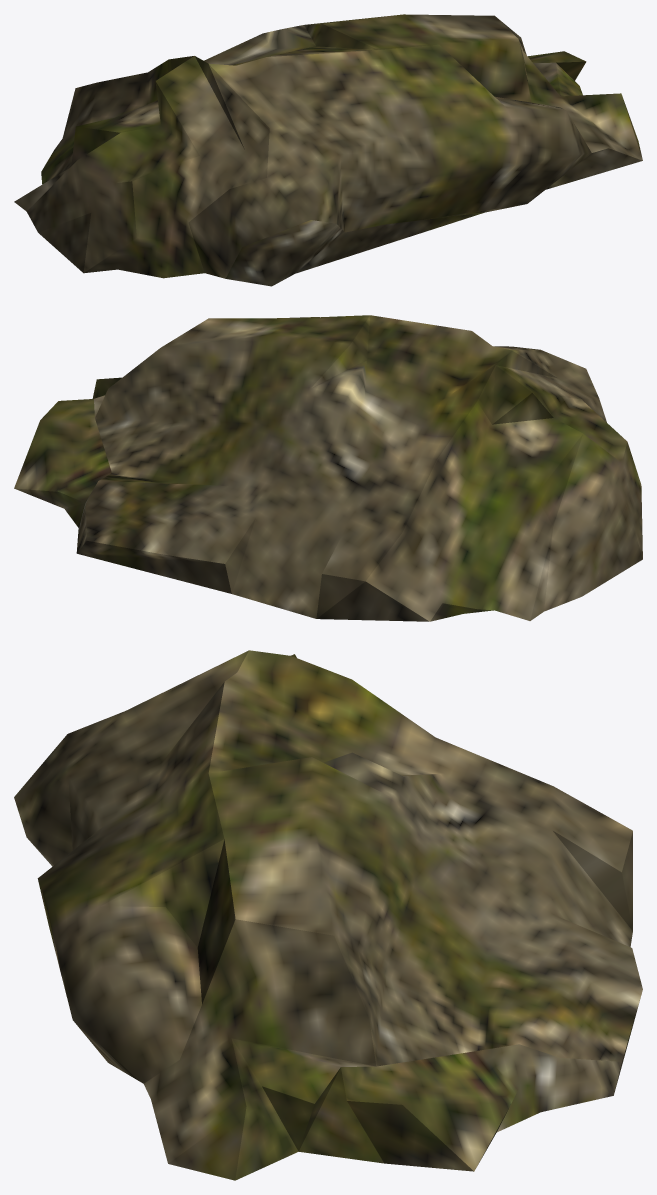
The model's file is SM_Plains_LargeRock03.FBX.
3 views of the same model, one above another, from view 1: azimuth 30°, elevation 25°; view 2: azimuth 150°, elevation 25°; view 3: azimuth 270°, elevation 25° (orthographic). The views are drawn at different scales.
Parts seen in each view (by area): view 1: SM_Plains_LargeRock03; view 2: SM_Plains_LargeRock03; view 3: SM_Plains_LargeRock03.
Part boxes in pixels (left/top/right/bottom): SM_Plains_LargeRock03: left=14, top=14, right=642, bottom=286; SM_Plains_LargeRock03: left=14, top=315, right=642, bottom=621; SM_Plains_LargeRock03: left=14, top=650, right=642, bottom=1180.
Size of the model in its own units: 365 by 112 by 261.
